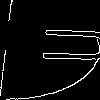U: (24, 25, 100, 64)
